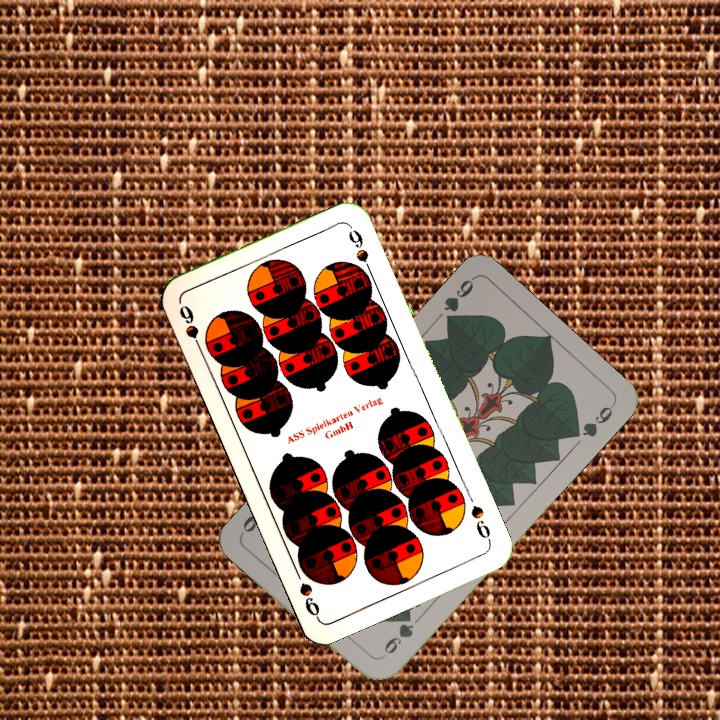G9: (376, 609, 417, 662), (439, 273, 477, 329)
S9: (175, 299, 215, 355), (467, 501, 495, 547)
